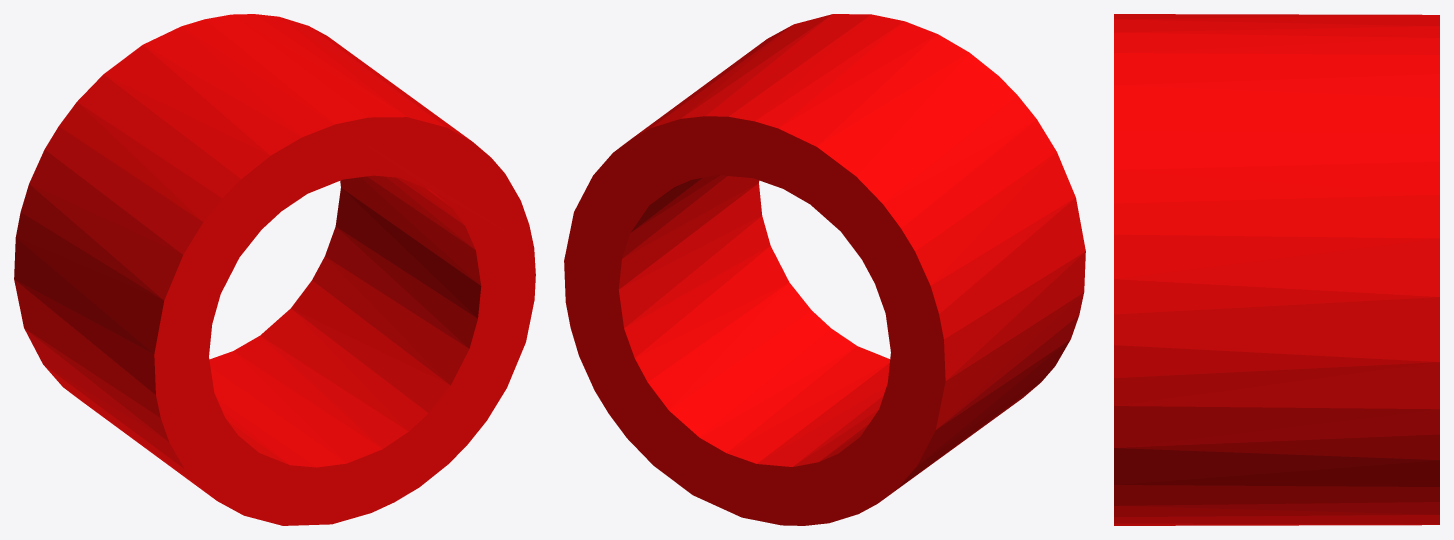
The model's file is legs_1_left_leg_1_x4_1_outer_1.glb.
The picture shows the model from 3 angles, left to right: view 1: azimuth 30°, elevation 25°; view 2: azimuth 150°, elevation 25°; view 3: azimuth 270°, elevation 25°; orthographic projection. The views are drawn at different scales.
Visible parts, largest first — view 1: legs_1_left_leg_1_x4_1_outer_1.obj; view 2: legs_1_left_leg_1_x4_1_outer_1.obj; view 3: legs_1_left_leg_1_x4_1_outer_1.obj.
Boxes of the visible parts, box(x1,y1,x2,y2) form: legs_1_left_leg_1_x4_1_outer_1.obj: box(14, 14, 535, 525); legs_1_left_leg_1_x4_1_outer_1.obj: box(564, 14, 1085, 525); legs_1_left_leg_1_x4_1_outer_1.obj: box(1114, 14, 1439, 525).
Size of the model in its own units: 0.0534 by 0.0534 by 0.034.
